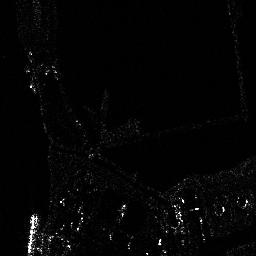ship: (26, 212, 40, 256)
